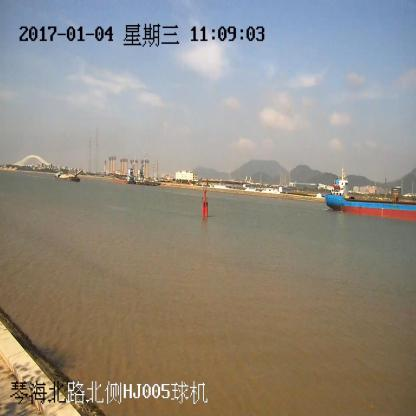Bulk Carrier: (322, 167, 416, 222)
